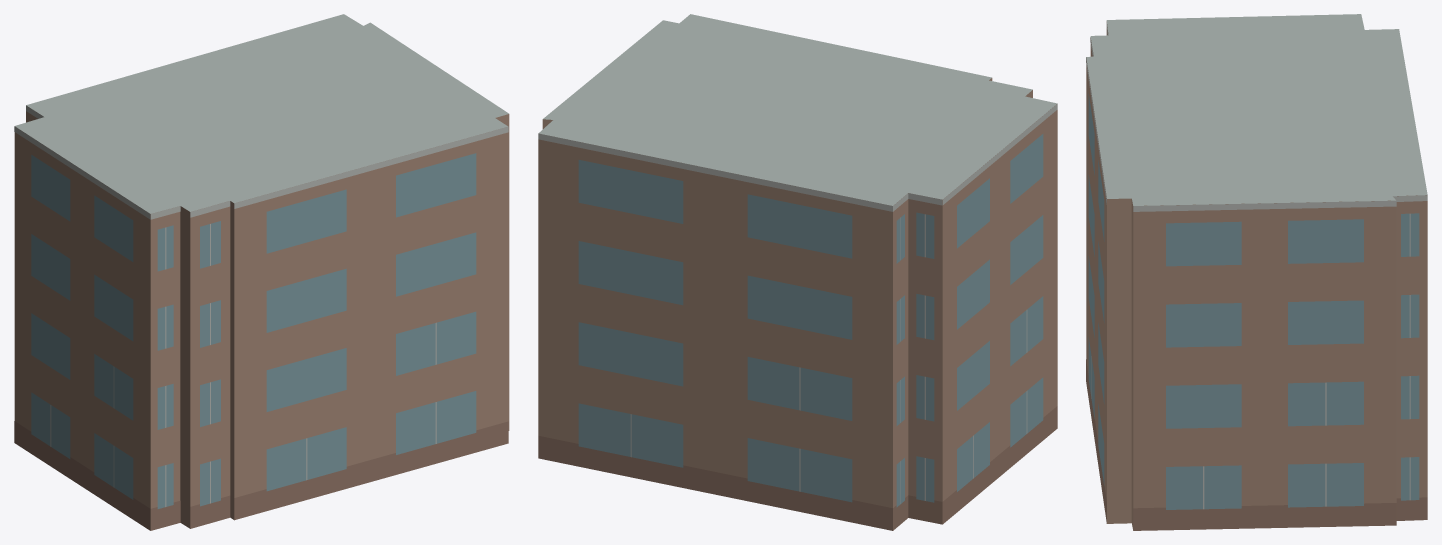
File: survey-upis-32747108.glb
3 views of the same model, side by side, from view 1: azimuth 30°, elevation 25°; view 2: azimuth 150°, elevation 25°; view 3: azimuth 270°, elevation 25° (orthographic). The views are drawn at different scales.
Visible parts, largest first — view 1: survey-upis-32747108.tmp; view 2: survey-upis-32747108.tmp; view 3: survey-upis-32747108.tmp.
Boxes of the visible parts, x1,y1,x2,y2 form: survey-upis-32747108.tmp: (14,14,509,530); survey-upis-32747108.tmp: (538,14,1057,530); survey-upis-32747108.tmp: (1086,14,1427,530).
Bounding box in the file's own units: 16.93 × 13.35 × 12.73.
